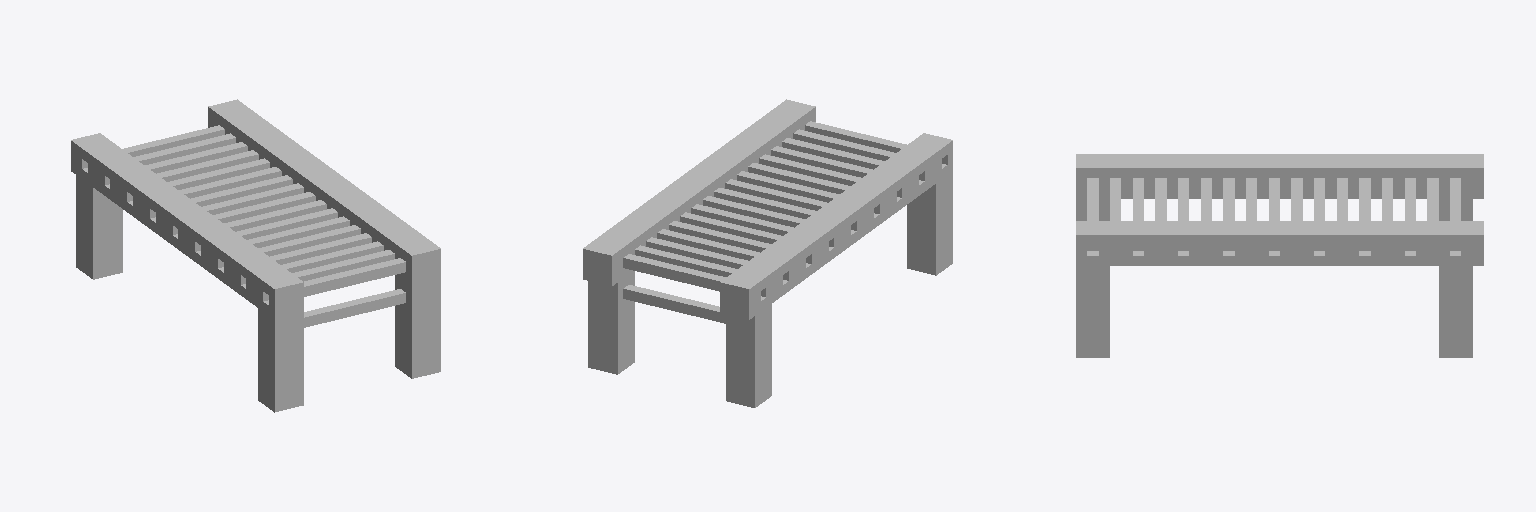
Rendered from Esteira 1.obj.
3 views of the same model, side by side, from view 1: azimuth 30°, elevation 25°; view 2: azimuth 150°, elevation 25°; view 3: azimuth 270°, elevation 25° (orthographic).
Parts seen in each view (by area): view 1: object 1; view 2: object 1; view 3: object 1.
Part boxes in pixels (left/top/right/bottom): object 1: left=71, top=99, right=440, bottom=412; object 1: left=583, top=99, right=952, bottom=407; object 1: left=1076, top=154, right=1483, bottom=357.
Size of the model in its own units: 1.7 by 1.2 by 3.6.